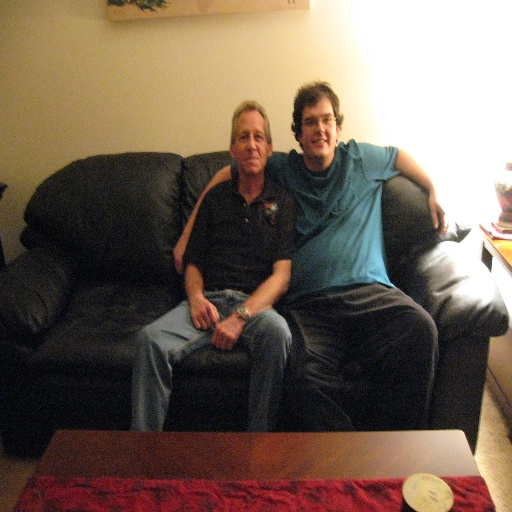hand: (181, 260, 211, 340), (212, 311, 246, 353), (427, 191, 449, 239), (173, 236, 187, 277)
